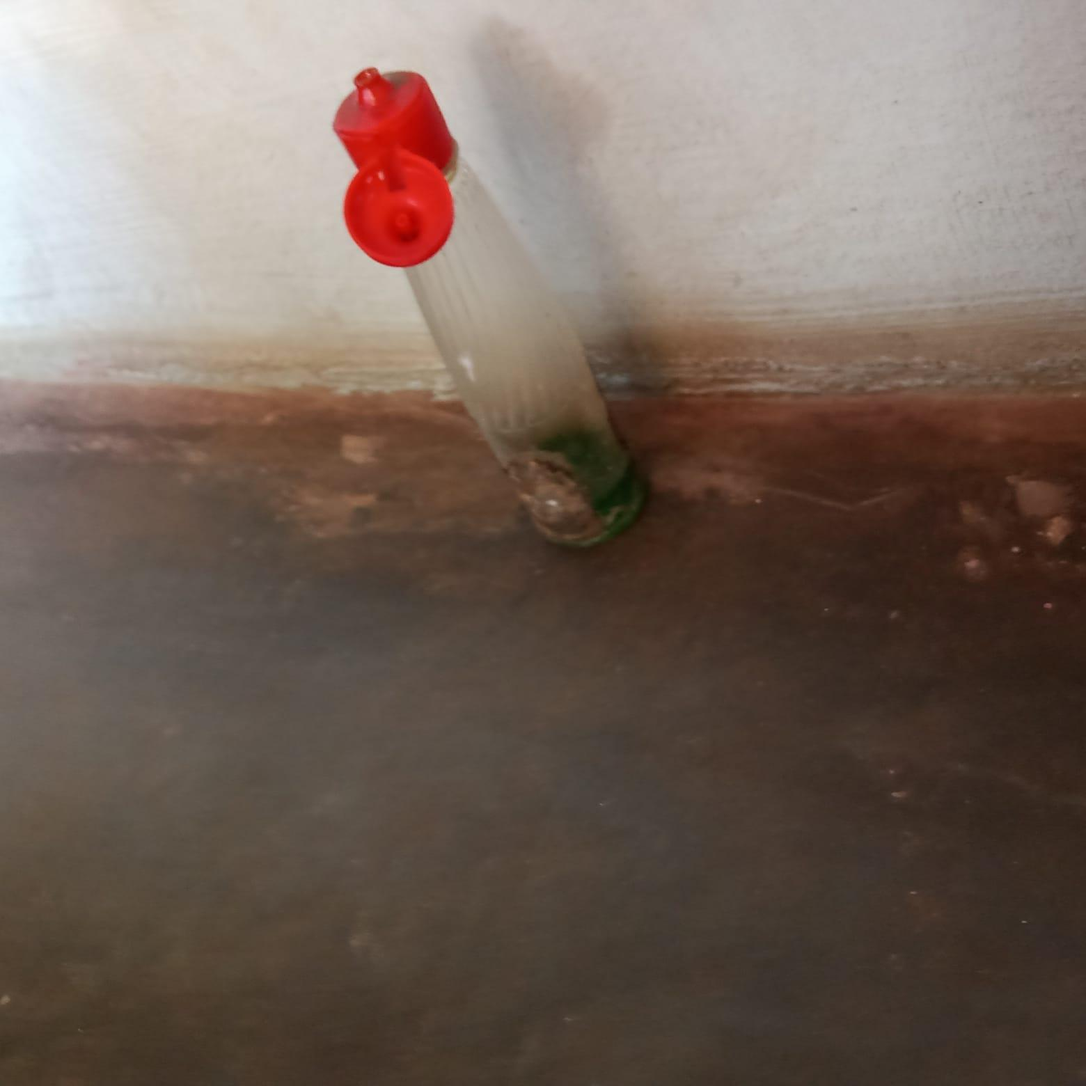Plastik: (333, 68, 652, 547)
